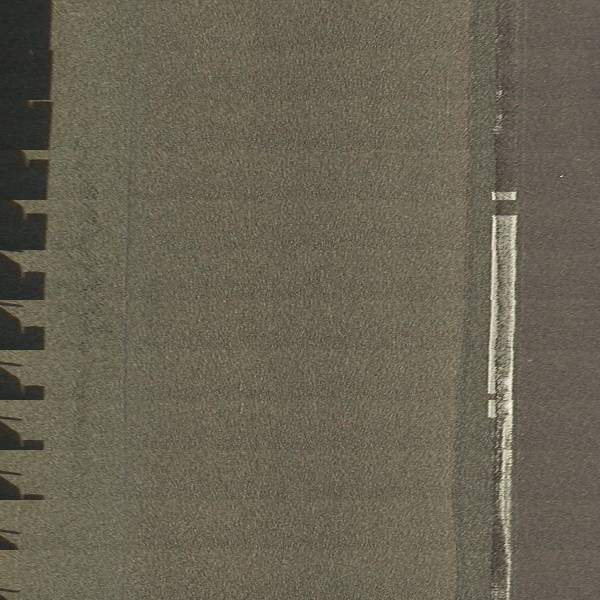road_damage: (476, 1, 522, 188), (471, 421, 518, 600)
